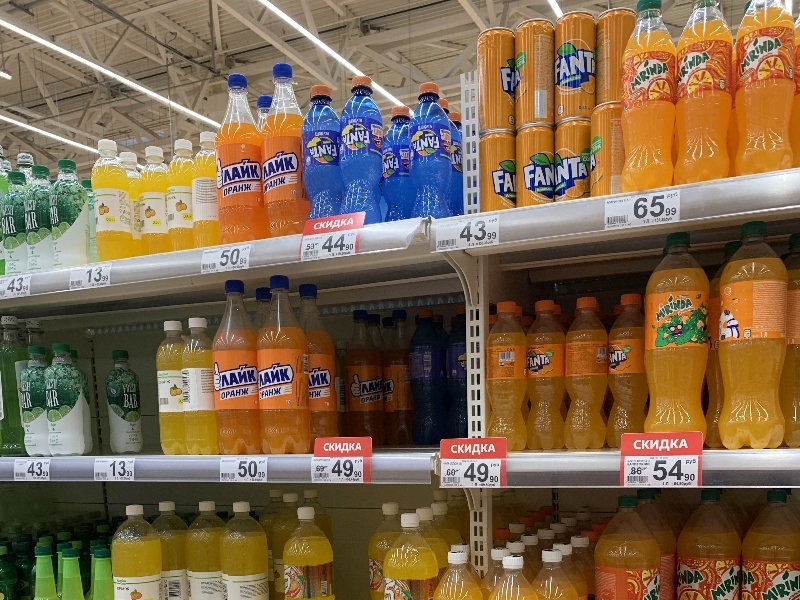lemonade: (715, 220, 792, 454), (637, 230, 716, 458), (667, 1, 745, 185), (616, 1, 682, 191), (252, 272, 315, 463), (208, 70, 273, 244), (213, 277, 269, 460), (254, 61, 311, 240), (478, 298, 531, 455), (519, 298, 571, 457), (561, 292, 611, 455), (337, 74, 387, 236), (81, 136, 139, 268), (405, 79, 453, 227), (178, 315, 224, 459)
